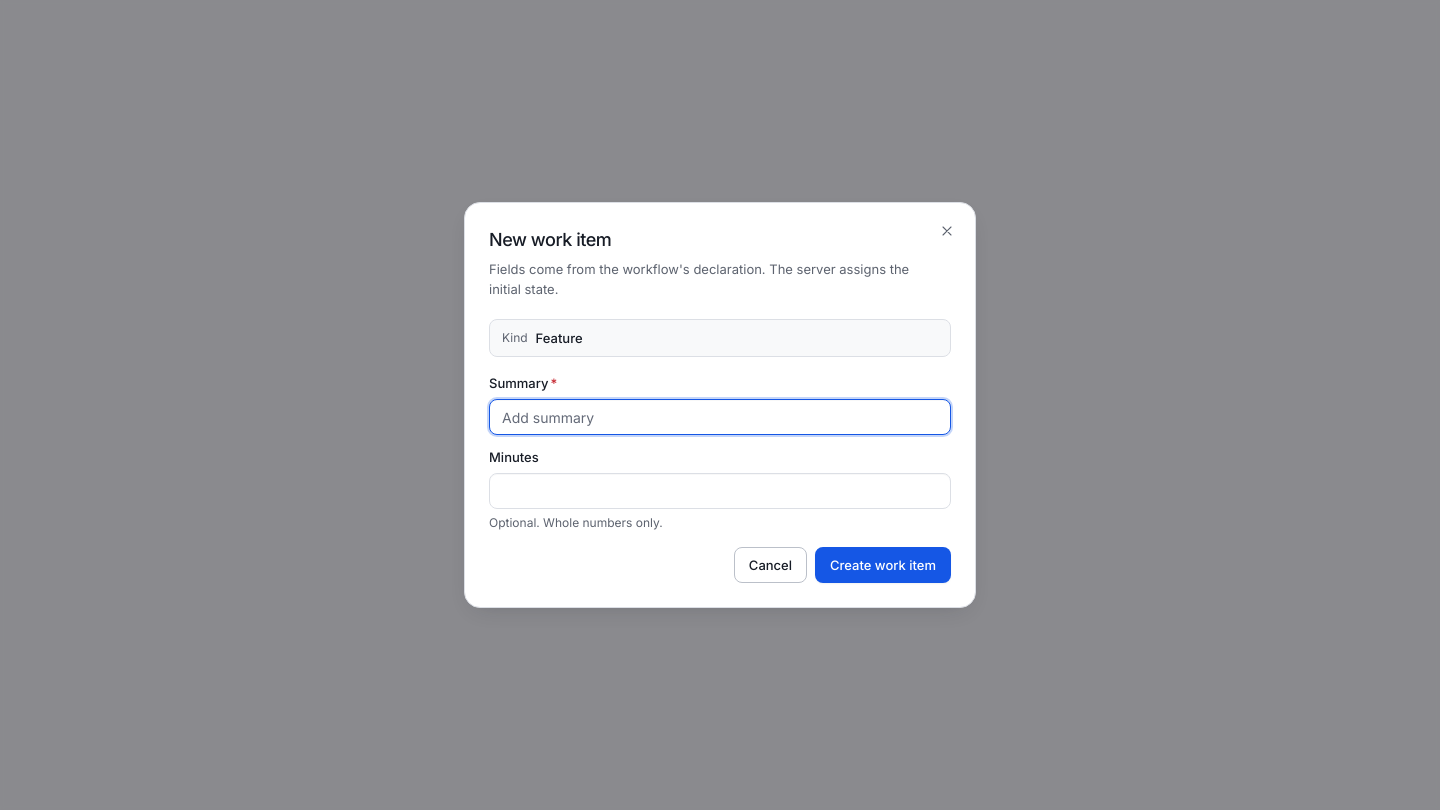
Test: work item create dialog idempotency › refuses a changed payload while the earlier create is unconfirmed
This screenshot has width=1440, height=810.
Type "Once" into the field labelled "Summary*".
click(720, 417); type("Once")  # box [489,399,951,435]
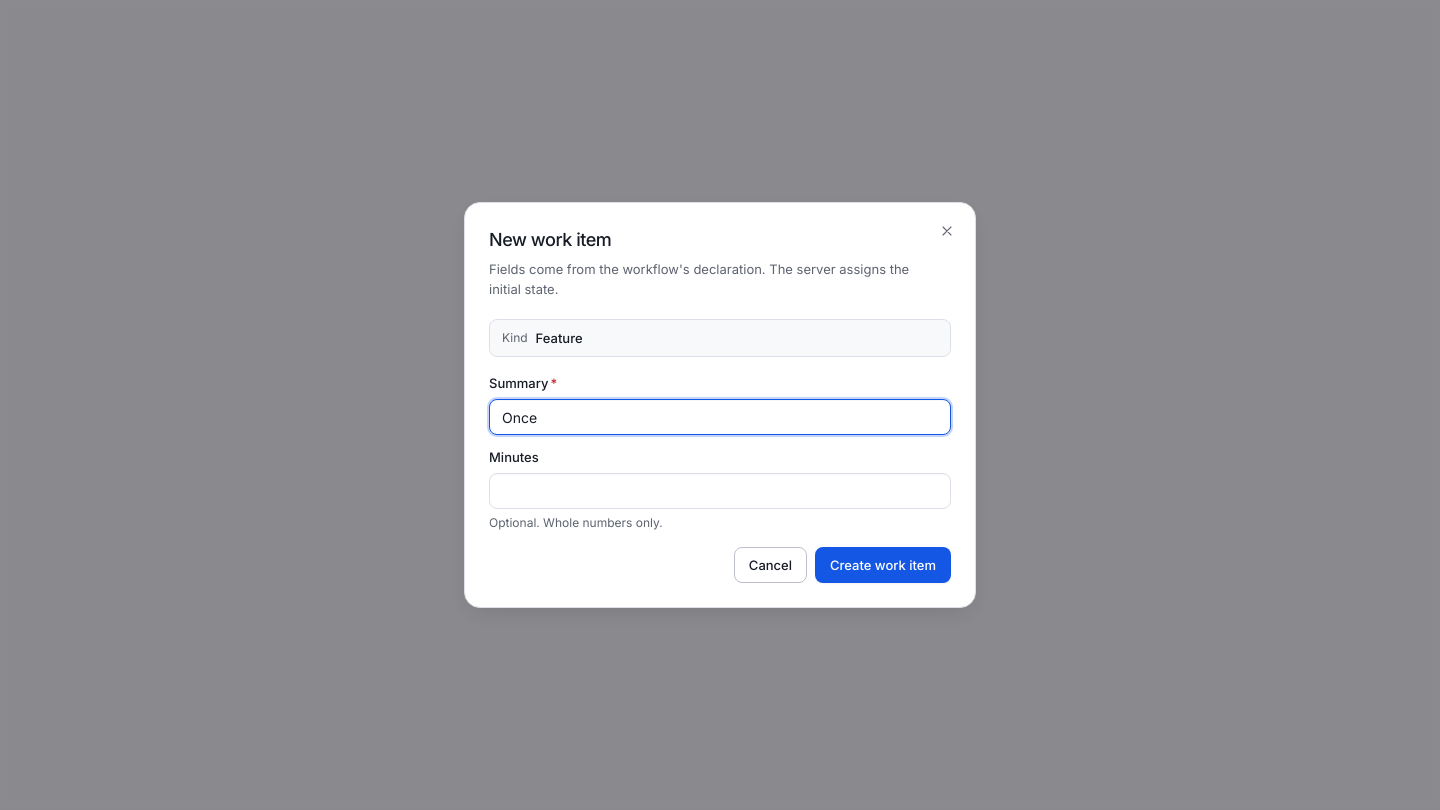
Click the button "Create work item".
click(883, 565)  # box [815,547,951,583]
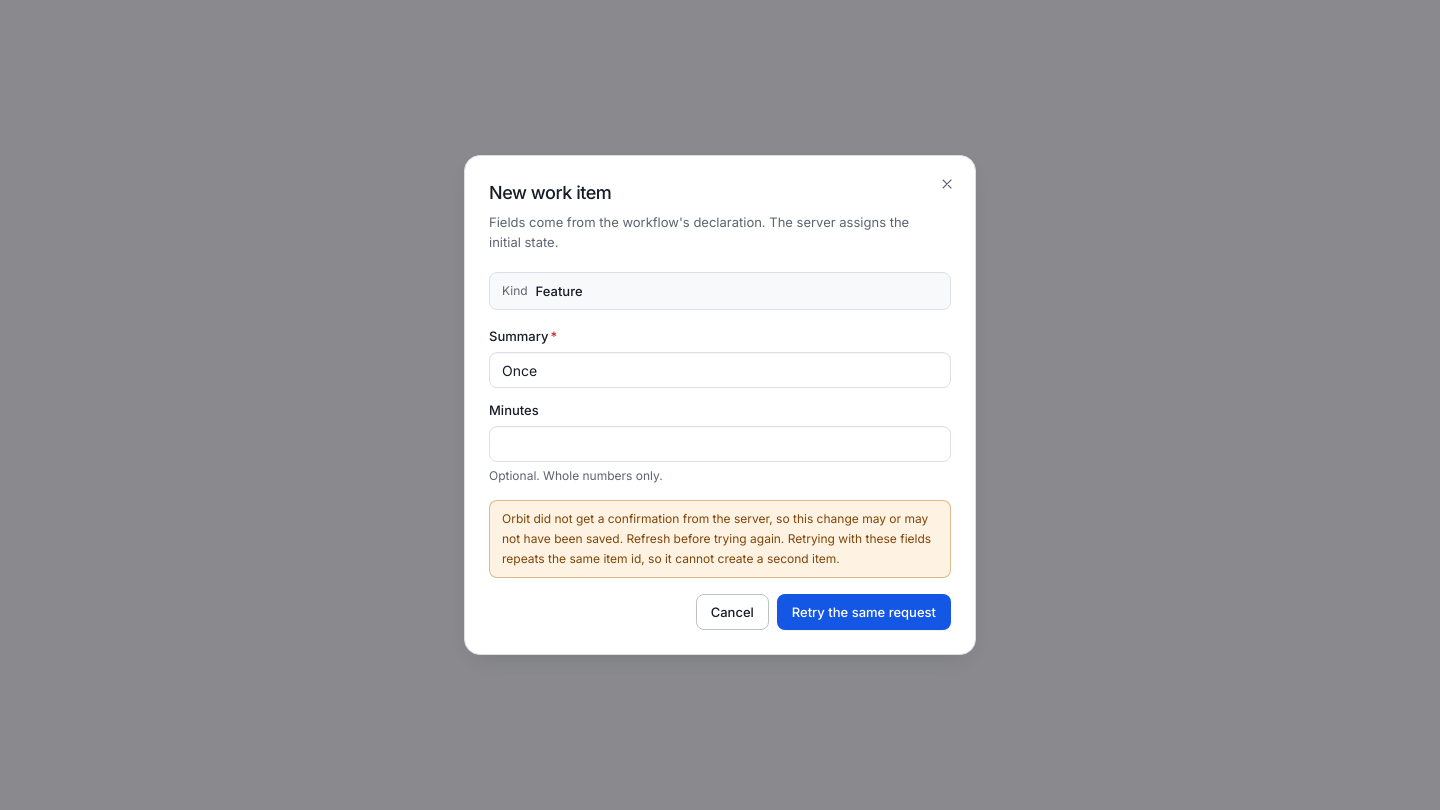
expect the message is shown: met, box [489,500,951,578]
Type " edited" into the field labelled "Summary*".
click(720, 370); type(" edited")  # box [489,352,951,388]
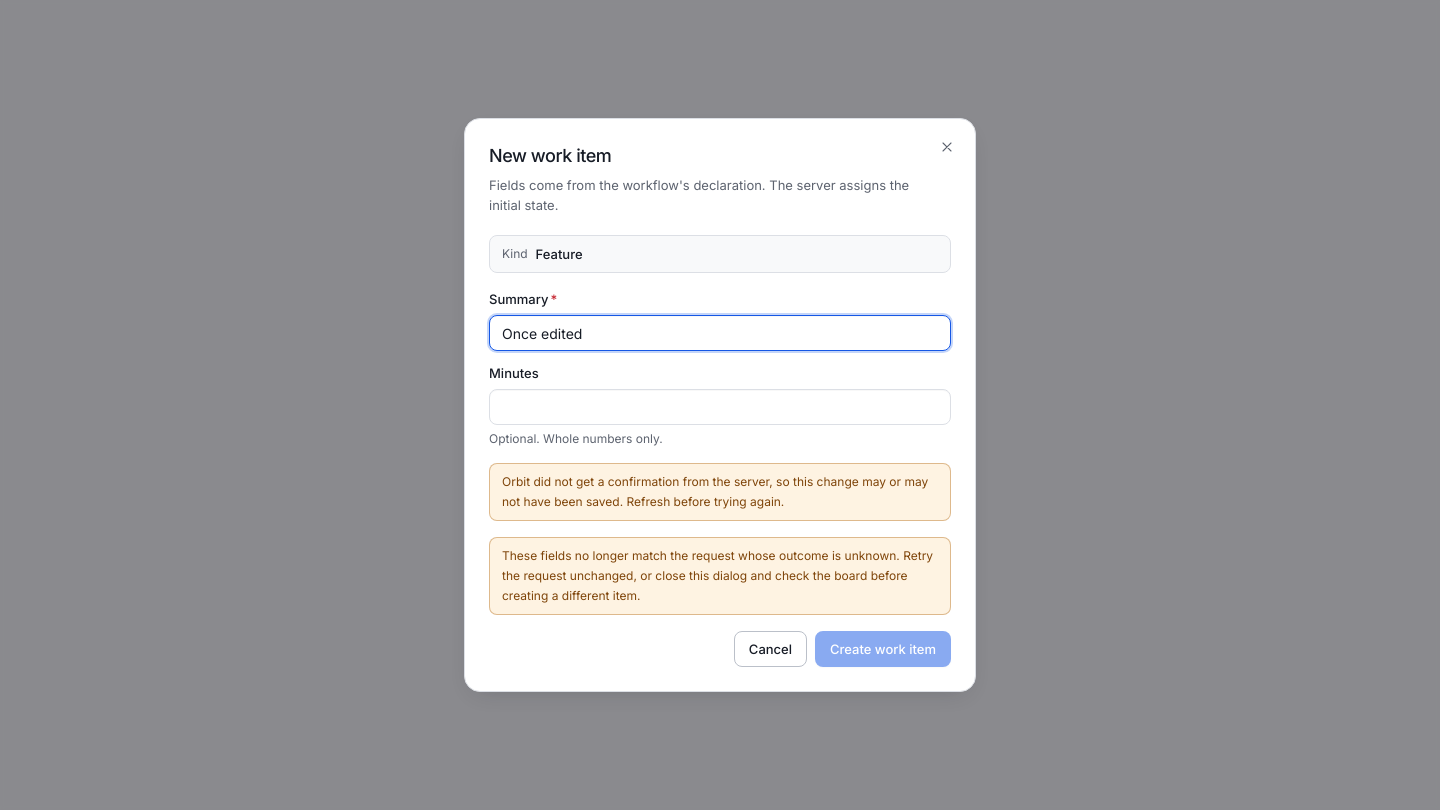
expect the button "Create work item" is disabled: met, box [815,631,951,667]
expect the text "no longer match the request whose outcome is unknown" is shown: met, box [502,548,933,603]
# Reverting to the submitted payload restores the same-id retry.
Replace the text in the field labelled "Summary*" with "Once" at (720, 333), box [489,315,951,351]
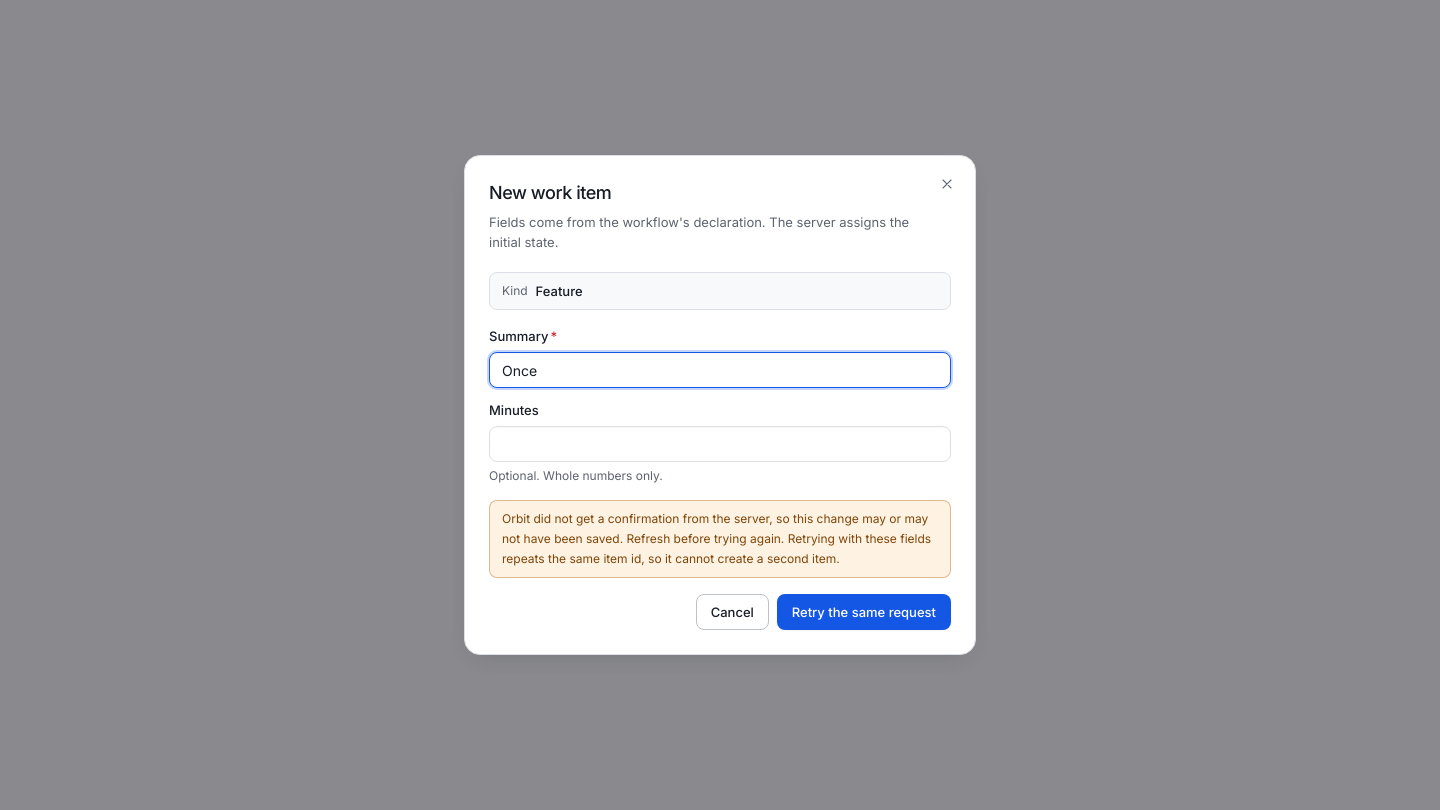
expect the button "Retry the same request" is enabled: met, box [777,594,951,630]
